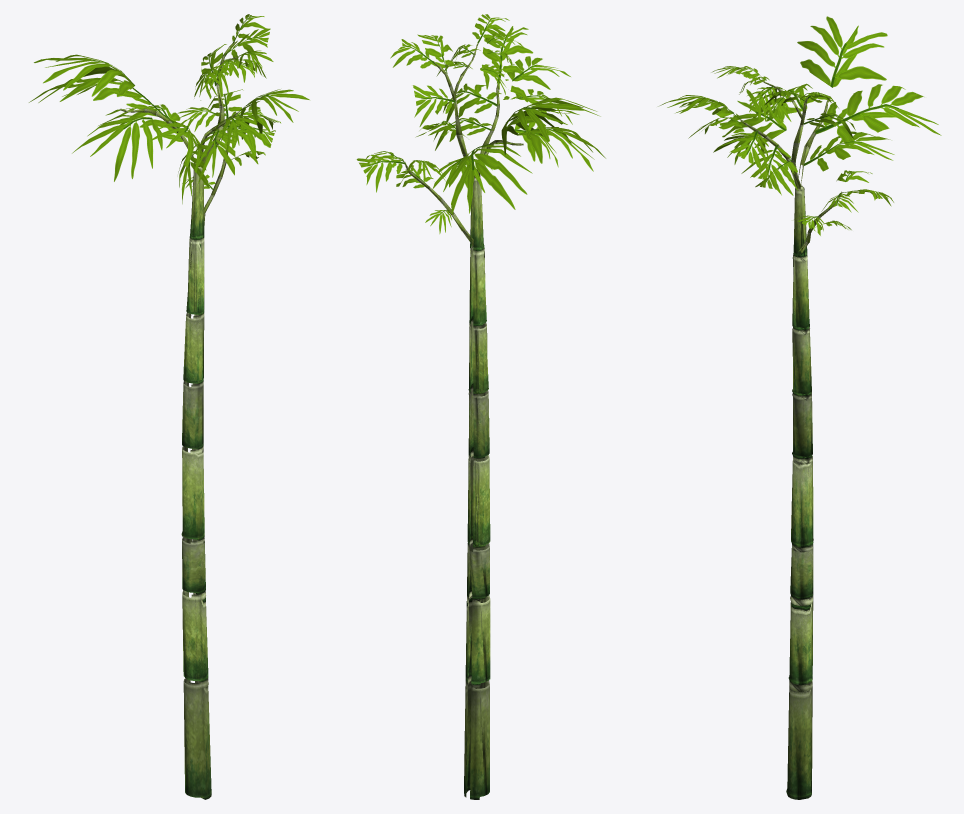
Rendered from bamboo3.glb.
3 renders of one model, left to right at view 1: azimuth 30°, elevation 25°; view 2: azimuth 150°, elevation 25°; view 3: azimuth 270°, elevation 25°, orthographic. The views are drawn at different scales.
Visible parts, largest first — view 1: Object_66; view 2: Object_66; view 3: Object_66.
Part boxes in pixels (x1,y1,x2,y2): Object_66: [29, 14, 309, 799]; Object_66: [356, 14, 605, 799]; Object_66: [658, 16, 941, 799].
Size of the model in its own units: 0.3678 by 1.07 by 0.3973.
3 materials, 3 textured.
